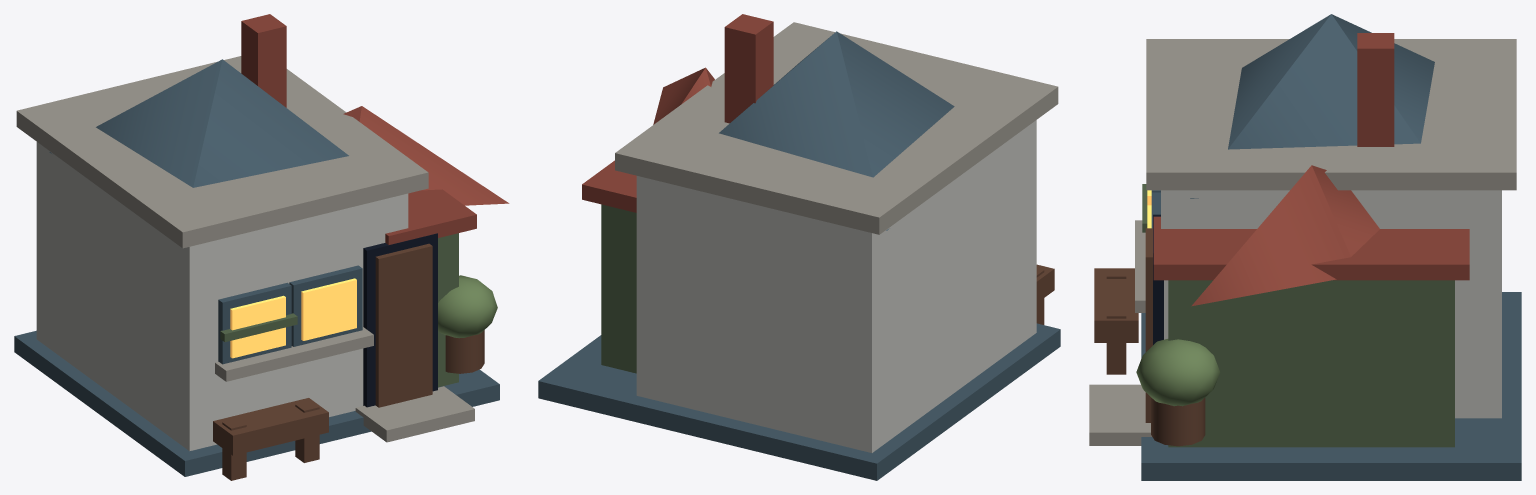
Rendered from home-row.glb.
The picture shows the model from 3 angles, left to right: view 1: azimuth 30°, elevation 25°; view 2: azimuth 150°, elevation 25°; view 3: azimuth 270°, elevation 25°; orthographic projection. The views are drawn at different scales.
Parts seen in each view (by area): view 1: HomeShell, HomeWindowGlow; view 2: HomeShell; view 3: HomeShell.
Boxes of the visible parts, left/top/right/bottom form: HomeShell: left=14, top=14, right=509, bottom=480; HomeWindowGlow: left=230, top=278, right=356, bottom=358; HomeShell: left=538, top=14, right=1060, bottom=480; HomeShell: left=1089, top=14, right=1521, bottom=480.
Bounding box in the file's own units: 1.81 × 1.67 × 1.75.
